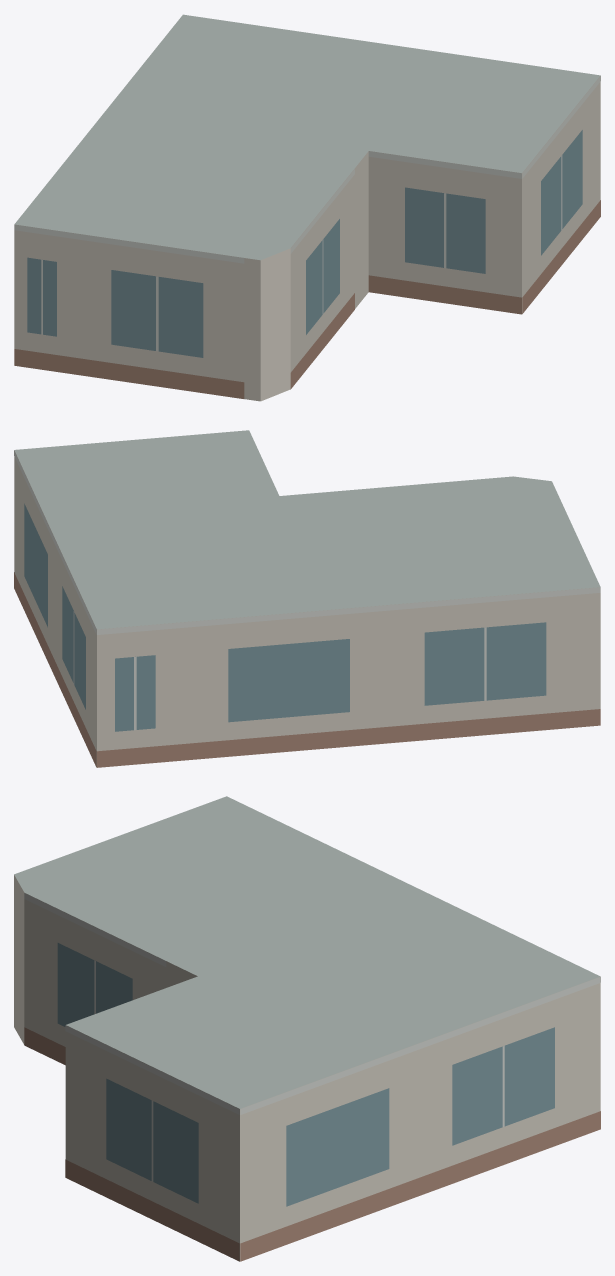
File: survey-upis-32533707.glb
The picture shows the model from 3 angles, top to bottom: view 1: azimuth 30°, elevation 25°; view 2: azimuth 150°, elevation 25°; view 3: azimuth 270°, elevation 25°; orthographic projection. The views are drawn at different scales.
Visible parts, largest first — view 1: survey-upis-32533707.tmp; view 2: survey-upis-32533707.tmp; view 3: survey-upis-32533707.tmp.
Part boxes in pixels (x1,y1,x2,y2): survey-upis-32533707.tmp: (14,14,600,401); survey-upis-32533707.tmp: (14,430,600,767); survey-upis-32533707.tmp: (14,796,600,1261).
Size of the model in its own units: 13.41 by 3.05 by 10.62.
